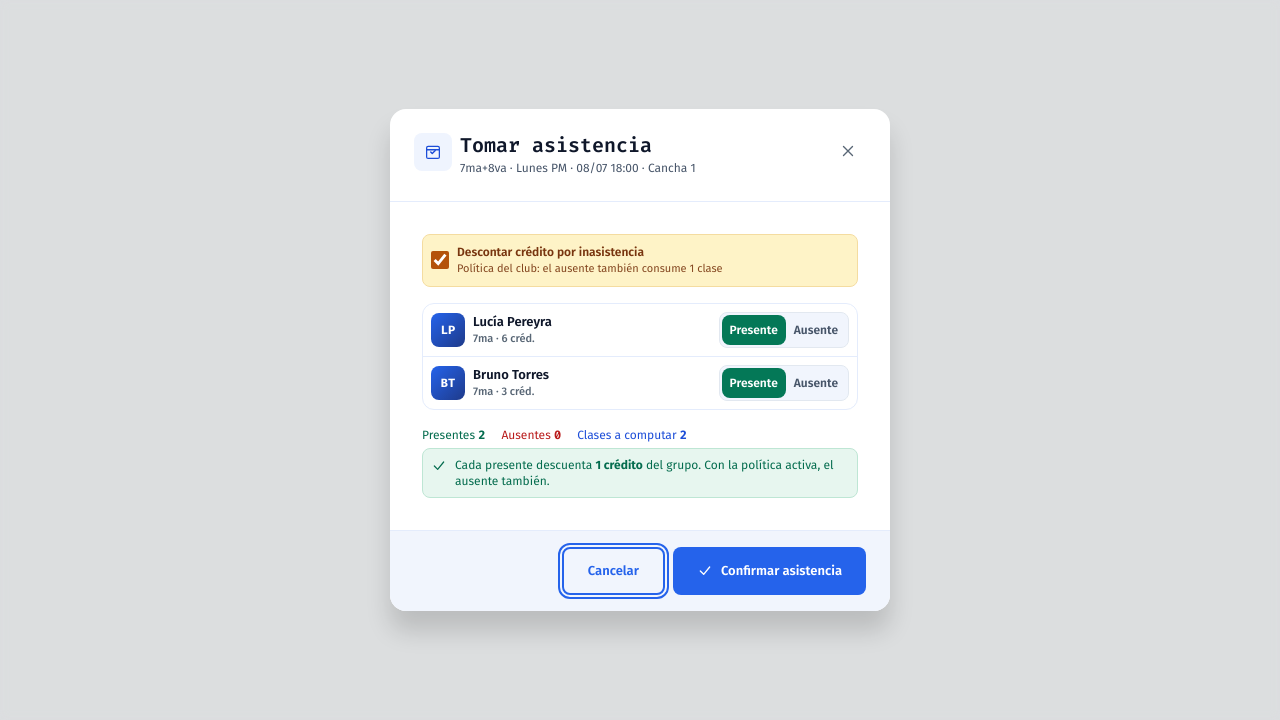
Test case: AttendanceModalComponent › el resumen se actualiza al togglear
This screenshot has width=1280, height=720.
What coordinates should you click on to do the following:
click the button with class "segp" in the row of "Bruno Torres"
I would click on:
 (816, 383)
Its box is [786,368,846,398].
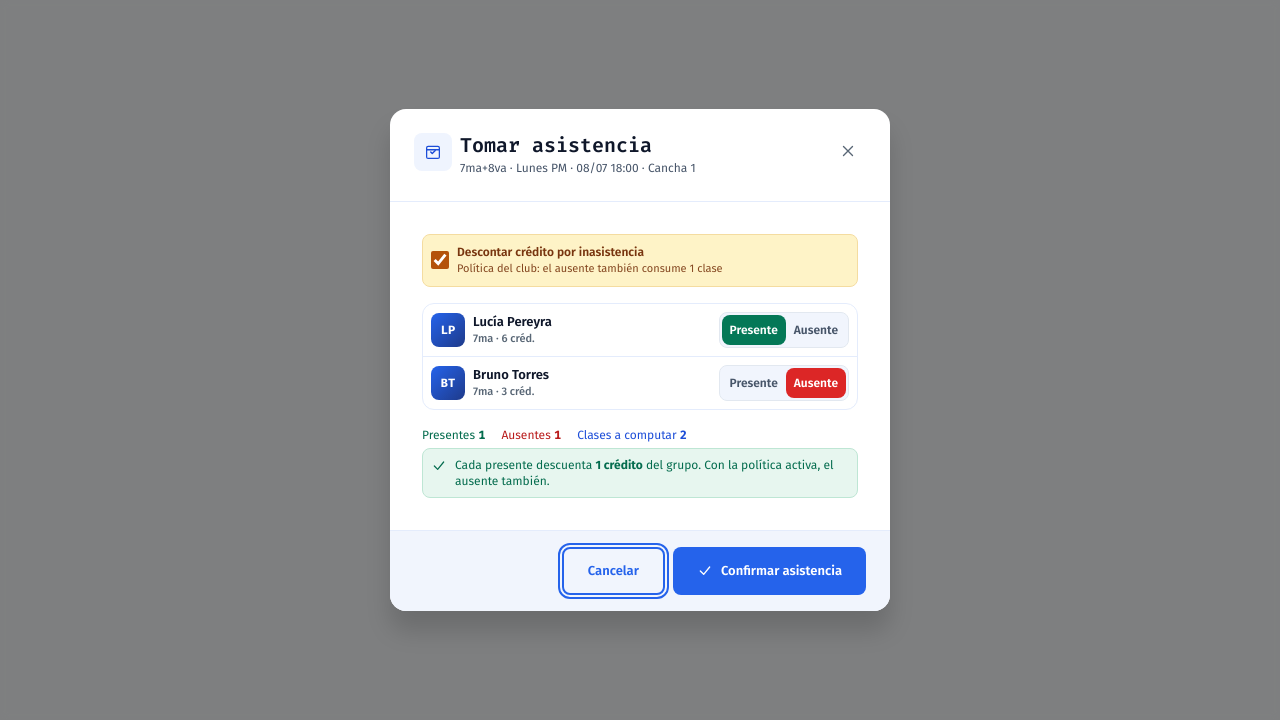
Now the element with class "att-summary" shows "Presentes 1", box [422,427,687,443]
Now the element with class "att-summary" shows "Ausentes 1", box [422,427,687,443]
